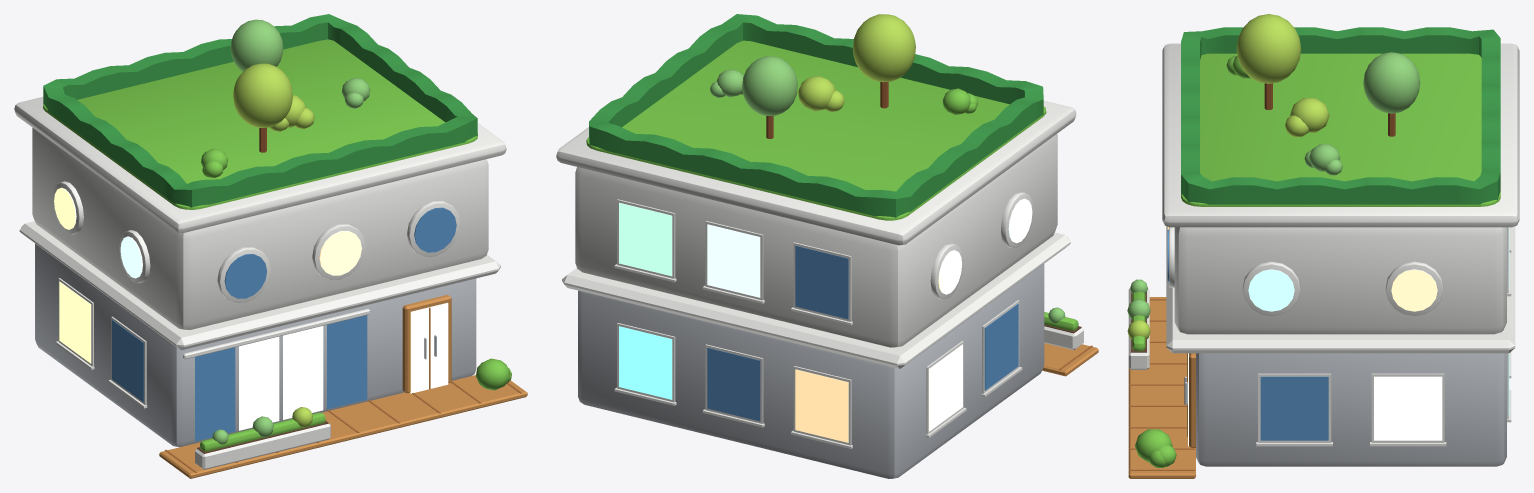
File: casa_telhado_verde.glb
3 renders of one model, left to right at view 1: azimuth 30°, elevation 25°; view 2: azimuth 150°, elevation 25°; view 3: azimuth 270°, elevation 25°, orthographic. The views are drawn at different scales.
Visible parts, largest first — view 1: casa_telhado_verde; view 2: casa_telhado_verde; view 3: casa_telhado_verde.
Boxes of the visible parts, <box> form: casa_telhado_verde: <box>14,14,527,478</box>; casa_telhado_verde: <box>556,14,1098,478</box>; casa_telhado_verde: <box>1127,14,1519,478</box>.
Bounding box in the file's own units: 10 × 9.39 × 9.33.
Materials: 7 (1 with a texture image).
